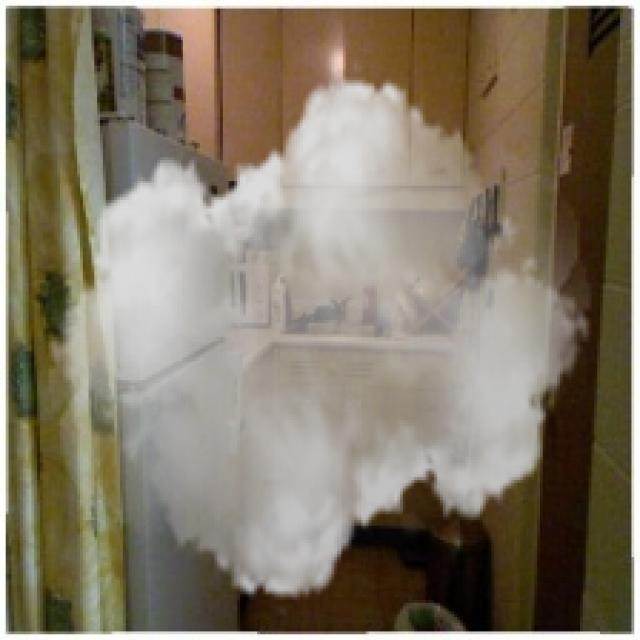smoke: (49, 57, 592, 620)
